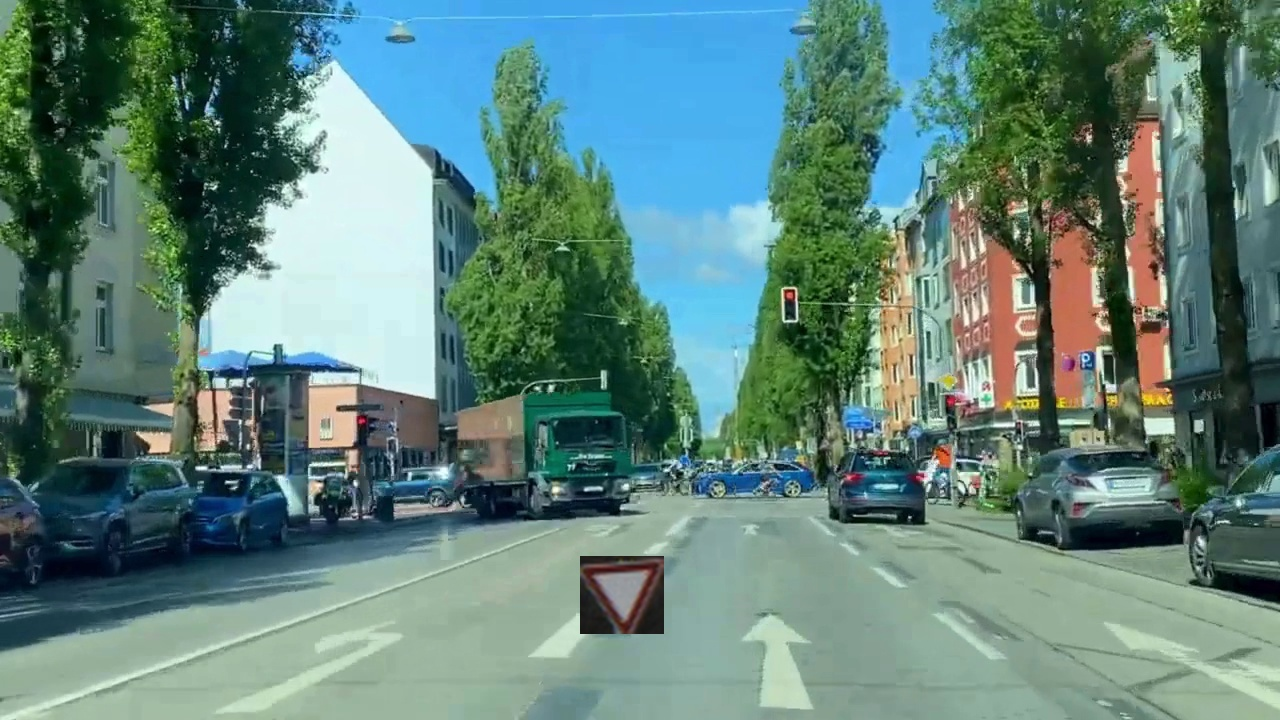Yield: (580, 556, 664, 634)
